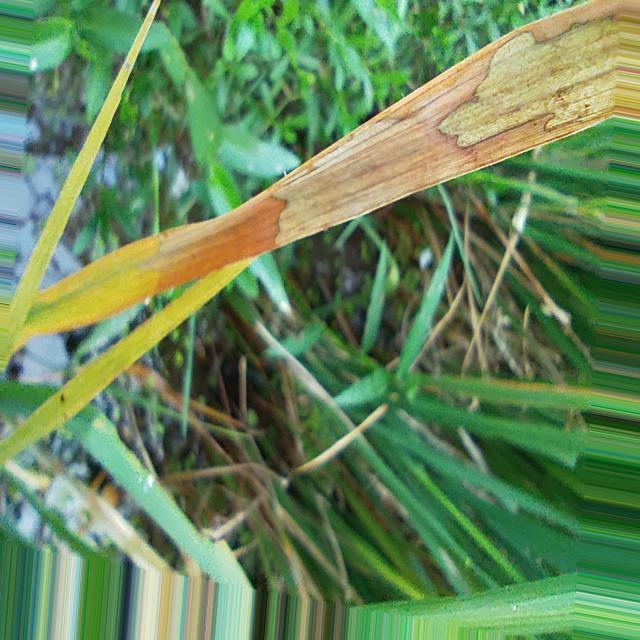Leaf_Blast: (11, 2, 640, 350), (9, 0, 160, 348), (0, 260, 251, 466)
Rice False Smut: (266, 0, 639, 247), (439, 18, 619, 148), (130, 193, 285, 291)
